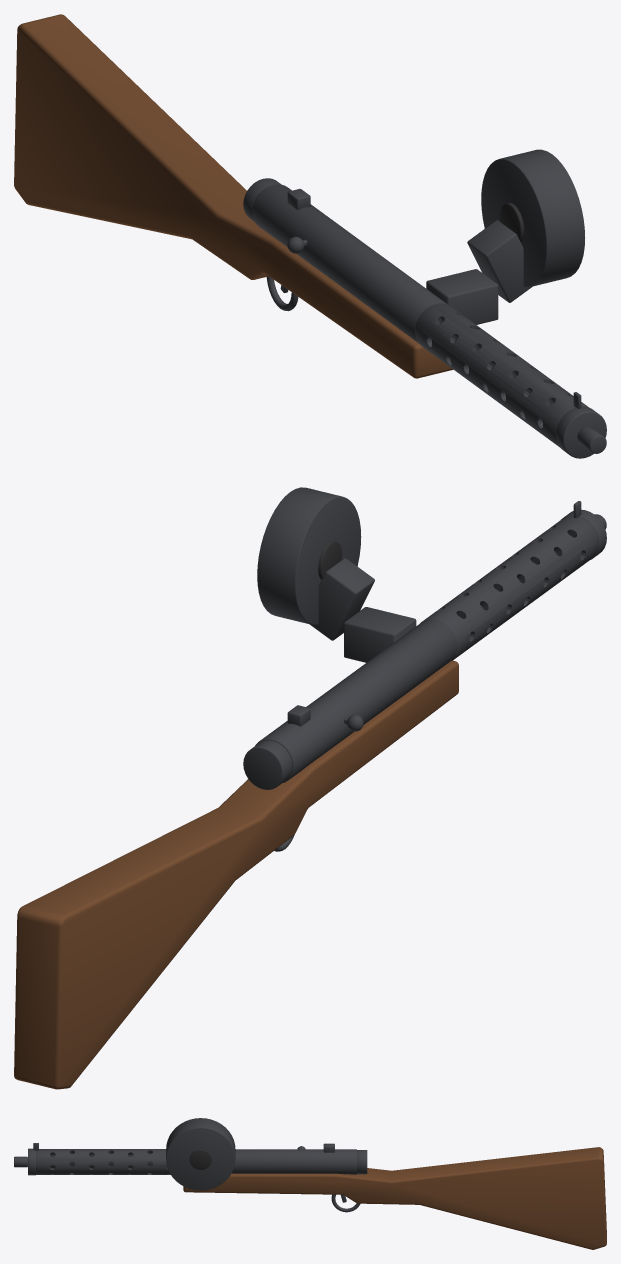
The model's file is bergmann_mp18.glb.
The picture shows the model from 3 angles, top to bottom: view 1: azimuth 30°, elevation 25°; view 2: azimuth 150°, elevation 25°; view 3: azimuth 270°, elevation 25°; orthographic projection. The views are drawn at different scales.
Visible parts, largest first — view 1: Stock, Receiver, SnailDrum, BarrelJacket, DrumNeck, MagWell, JacketCap, DrumHub; view 2: Stock, Receiver, SnailDrum, BarrelJacket, DrumNeck, MagWell, EndCap; view 3: Stock, SnailDrum, BarrelJacket, Receiver, DrumHub, EndCap, JacketCap.
Part boxes in pixels (left/top/right/bottom): Stock: left=14, top=14, right=453, bottom=378; Receiver: left=252, top=184, right=447, bottom=342; SnailDrum: left=481, top=149, right=584, bottom=287; BarrelJacket: left=415, top=303, right=589, bottom=447; DrumNeck: left=467, top=220, right=532, bottom=302; MagWell: left=426, top=269, right=498, bottom=324; JacketCap: left=556, top=406, right=606, bottom=458; DrumHub: left=500, top=202, right=524, bottom=242; Stock: left=14, top=660, right=458, bottom=1089; Receiver: left=255, top=619, right=457, bottom=782; SnailDrum: left=257, top=487, right=361, bottom=624; BarrelJacket: left=420, top=515, right=598, bottom=660; DrumNeck: left=310, top=558, right=374, bottom=640; MagWell: left=344, top=607, right=416, bottom=662; EndCap: left=243, top=740, right=292, bottom=789; Stock: left=183, top=1147, right=606, bottom=1249; SnailDrum: left=166, top=1118, right=235, bottom=1190; BarrelJacket: left=36, top=1149, right=170, bottom=1174; Receiver: left=231, top=1149, right=356, bottom=1174; DrumHub: left=189, top=1149, right=211, bottom=1169; EndCap: left=357, top=1150, right=367, bottom=1174; JacketCap: left=28, top=1148, right=36, bottom=1175.
Size of the model in its own units: 0.1505 by 0.2394 by 0.8539.
